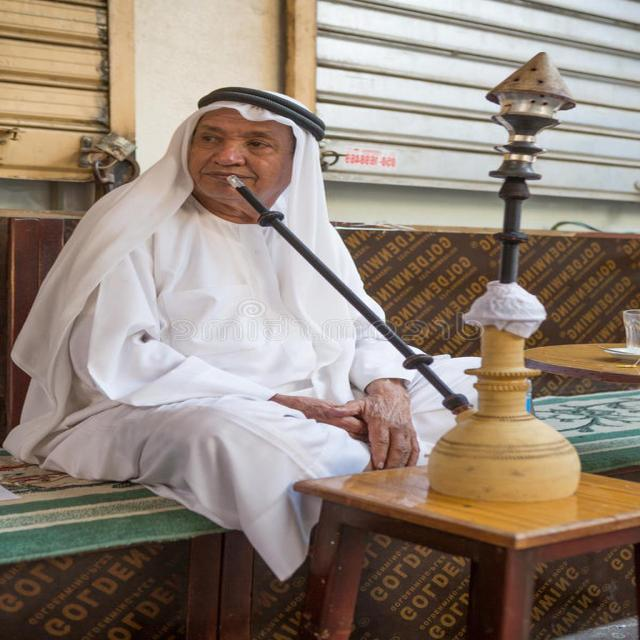smoking: (177, 34, 572, 528)
